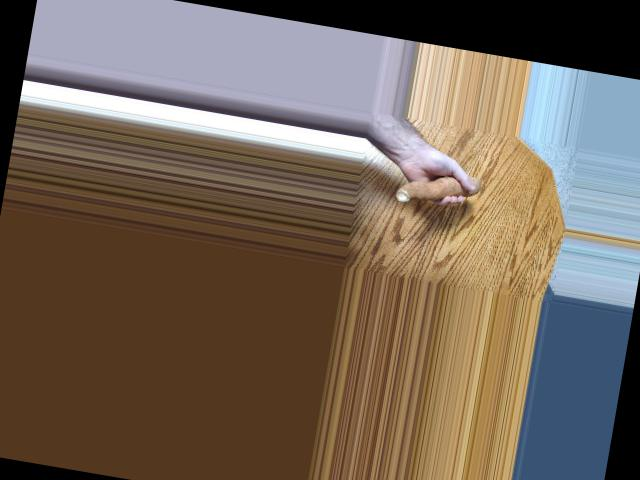sweet_potato: (390, 165, 485, 214)
